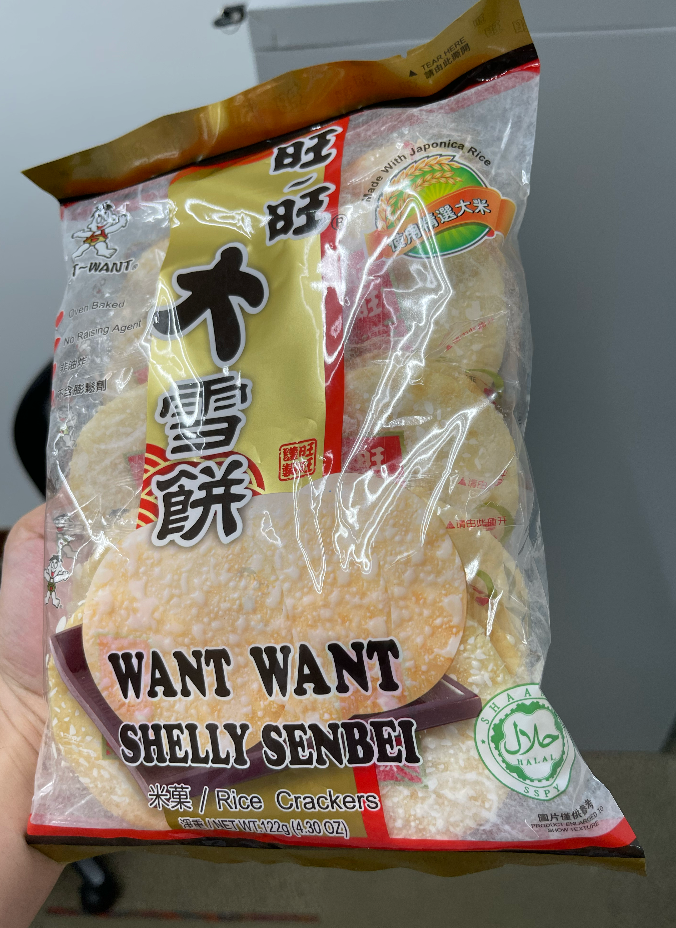crackers_100g-199g: (77, 145, 549, 840)
